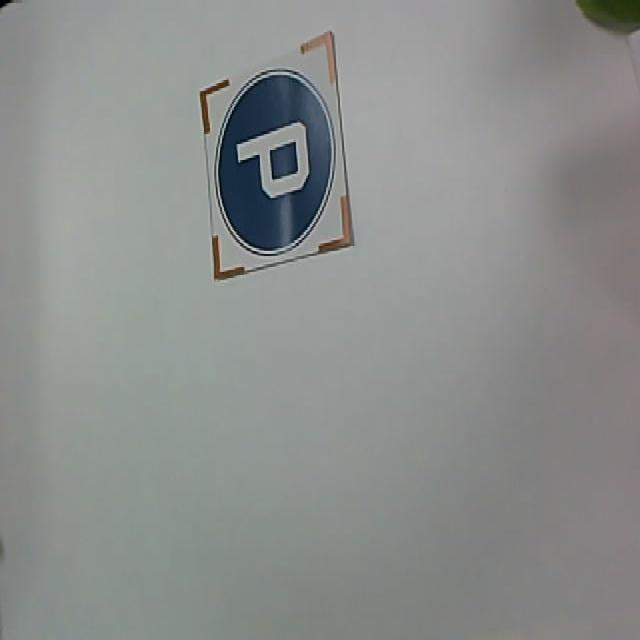parking: (217, 73, 338, 258)
